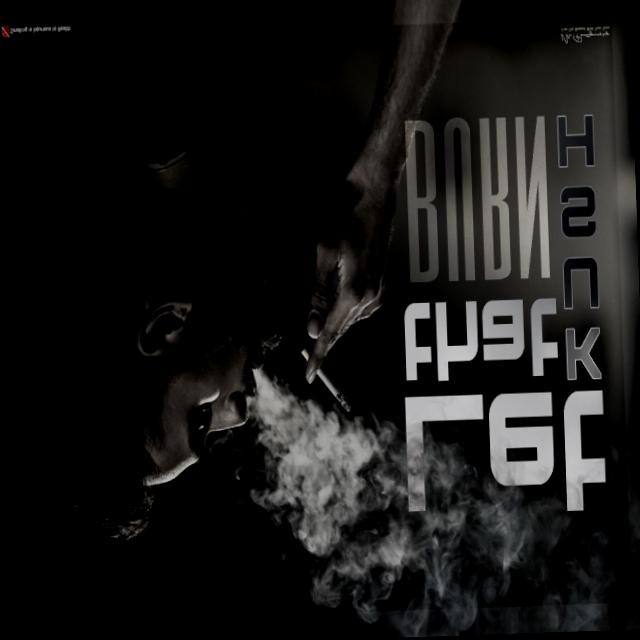smoke: (312, 356, 356, 409)
